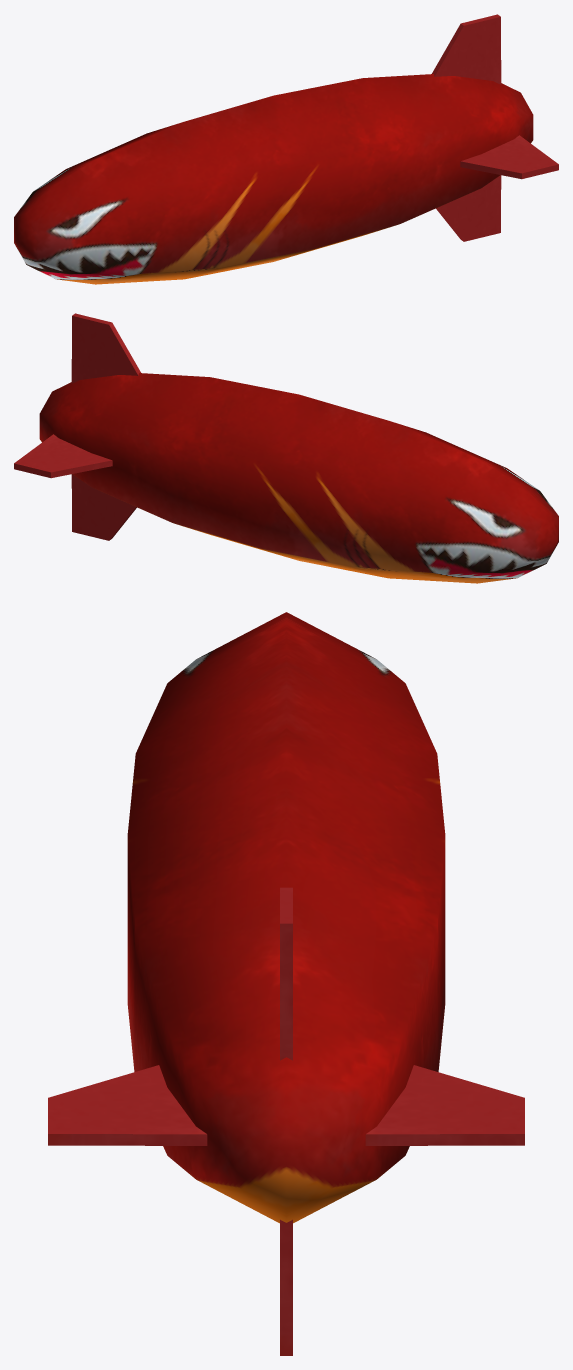
The model's file is Zeppeelin_ms.FBX.
The picture shows the model from 3 angles, top to bottom: view 1: azimuth 30°, elevation 25°; view 2: azimuth 150°, elevation 25°; view 3: azimuth 270°, elevation 25°; orthographic projection. The views are drawn at different scales.
Visible parts, largest first — view 1: Zeppelin_ms; view 2: Zeppelin_ms; view 3: Zeppelin_ms.
Part boxes in pixels (x1=…): Zeppelin_ms: x1=14, y1=14, x2=558, y2=284; Zeppelin_ms: x1=14, y1=313, x2=558, y2=583; Zeppelin_ms: x1=48, y1=612, x2=524, y2=1355.
Bounding box in the file's own units: 136 × 54.41 × 54.41.
